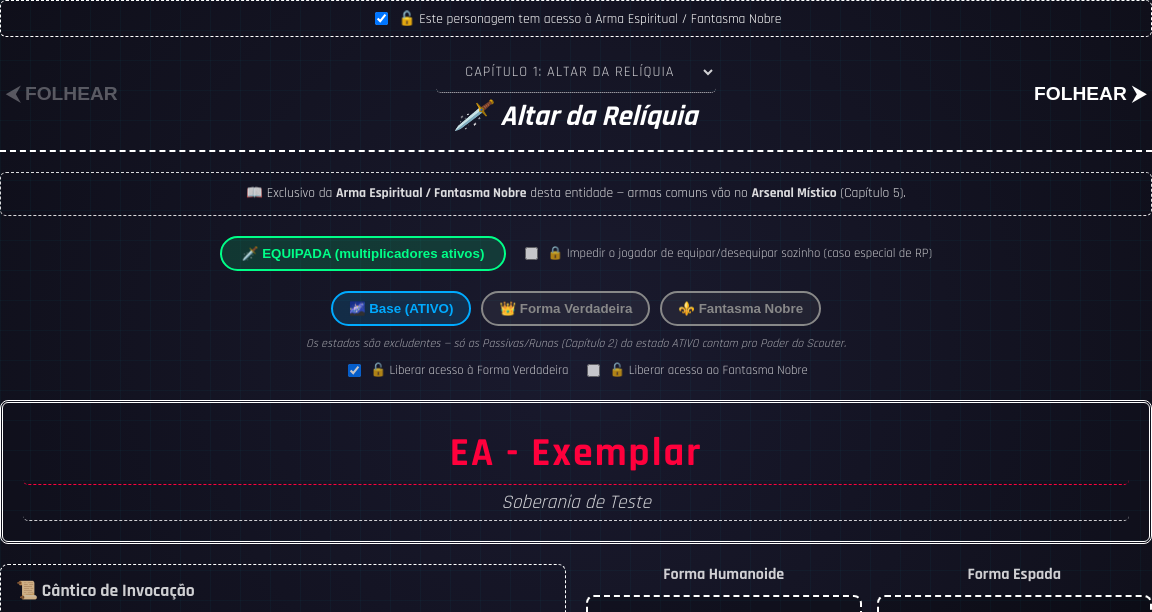
Test: RelicarioPanel — Capítulos 1-4 (Arma Espiritual) ficam bloqueados para quem NÃO é Mestre/Co-Mestre › Capítulo 4 (Formas Verdadeiras): isMestre=true mostra os botões de despertar/destruir/sub-configurar e habilita campos + uploads
Select "CAPÍTULO 4: FORMAS VERDADEIRAS" in the dropdown at (576, 72), box top-left (436, 52), bottom-right (716, 93)
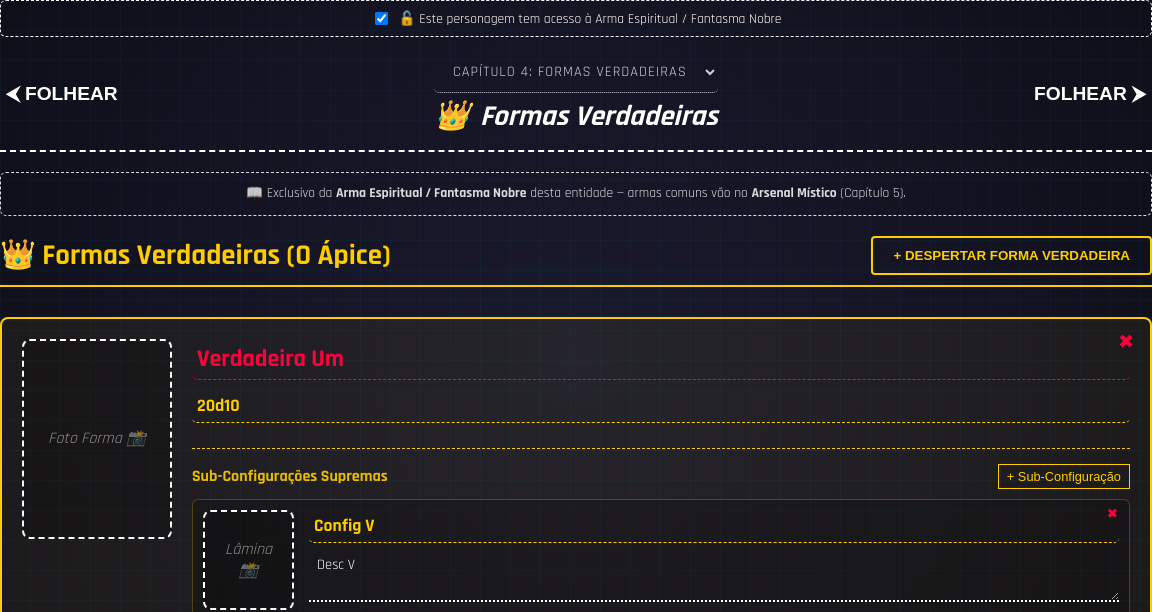
Expected: the number of buttons "✖" is 2, top-left (1112, 329), bottom-right (1140, 354); top-left (1101, 505), bottom-right (1124, 522)
Expected: the button "+ DESPERTAR FORMA VERDADEIRA" is shown, top-left (871, 236), bottom-right (1151, 275)
Expected: the button "+ Sub-Configuração" is shown, top-left (998, 464), bottom-right (1130, 489)
